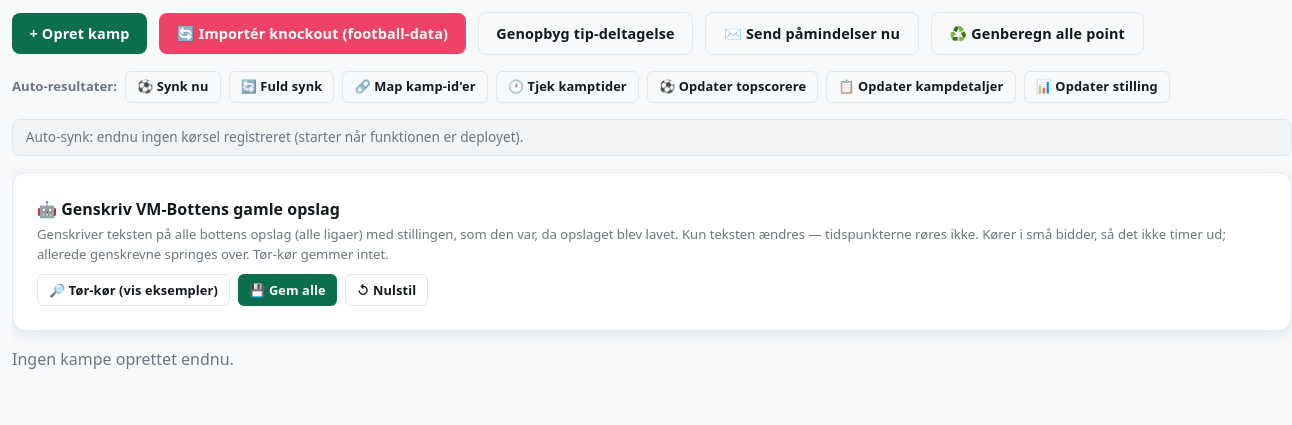
Test: MatchesTab › kalder backfill ved klik og viser besked
Step 1. Click the button "Genopbyg tip-deltagelse" → point(586, 33), box [478, 12, 693, 55]
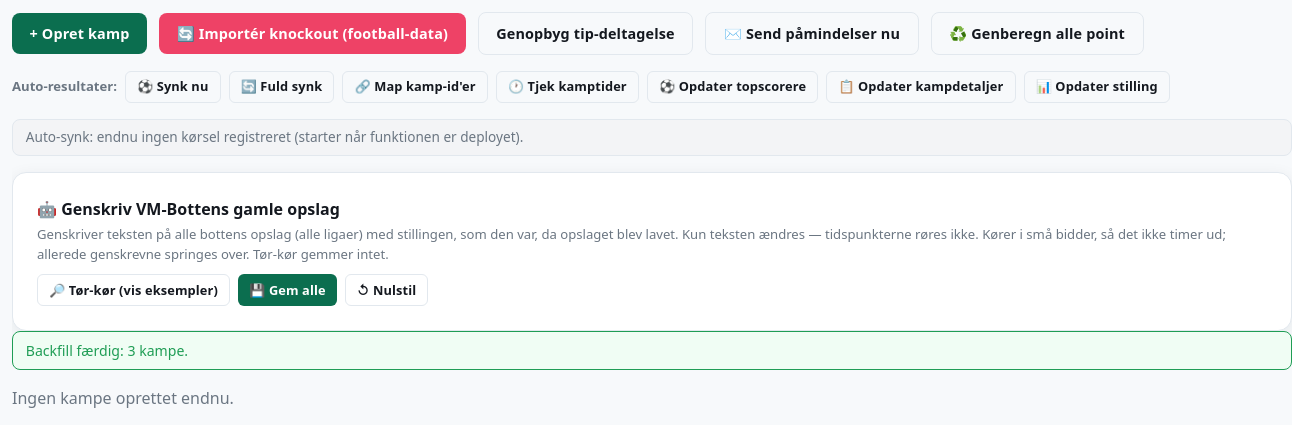
Expected: the message "Backfill færdig: 3 kampe." is shown, [12, 331, 1291, 370]
